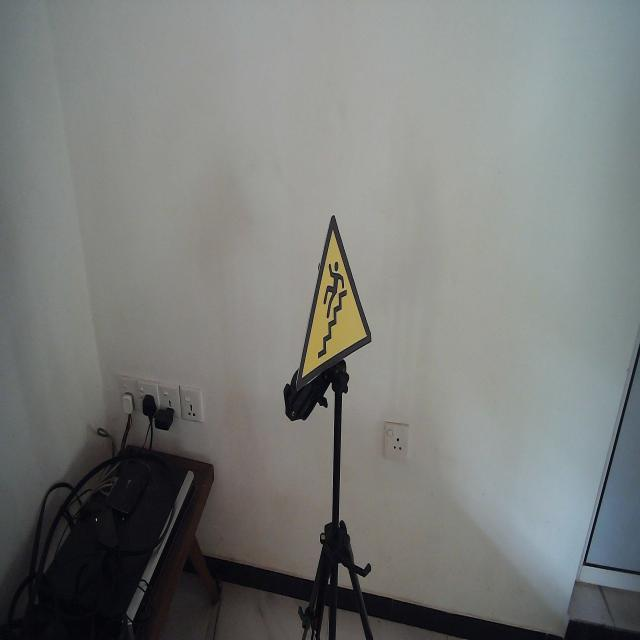stairs: (294, 212, 374, 394)
